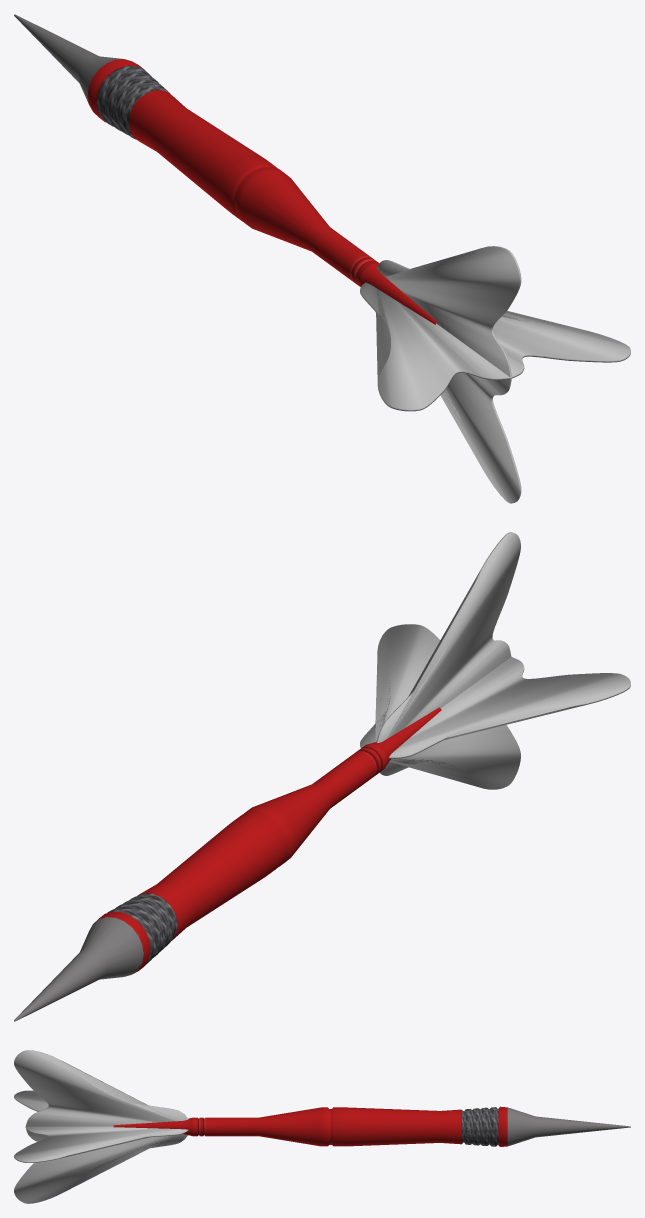
The model's file is Dart.fbx.
The picture shows the model from 3 angles, top to bottom: view 1: azimuth 30°, elevation 25°; view 2: azimuth 150°, elevation 25°; view 3: azimuth 270°, elevation 25°; orthographic projection. The views are drawn at different scales.
Parts seen in each view (by area): view 1: Dart_Fins, Dart_Body; view 2: Dart_Fins, Dart_Body; view 3: Dart_Fins, Dart_Body.
Boxes of the visible parts, x1,y1,x2,y2 form: Dart_Fins: (360, 246, 630, 503); Dart_Body: (14, 14, 437, 324); Dart_Fins: (360, 532, 630, 789); Dart_Body: (14, 707, 441, 1021); Dart_Fins: (14, 1050, 188, 1203); Dart_Body: (113, 1106, 630, 1146).
Size of the model in its own units: 2.47 by 2.47 by 9.01.
